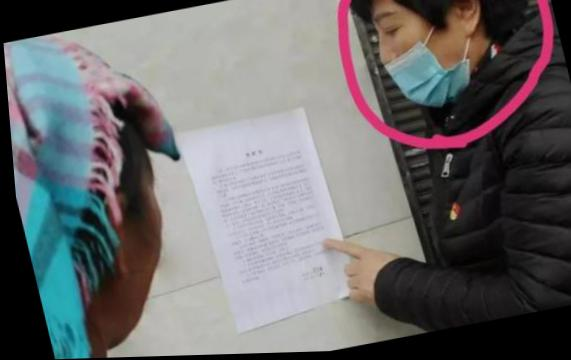WRONG: (363, 1, 458, 119)
